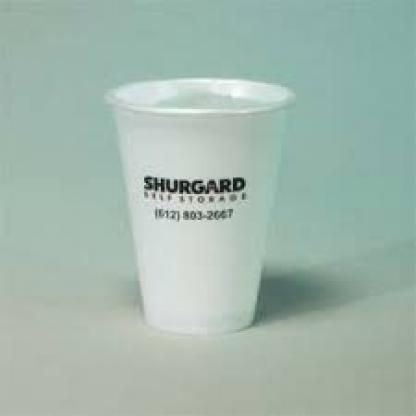paper: (103, 76, 296, 333)
